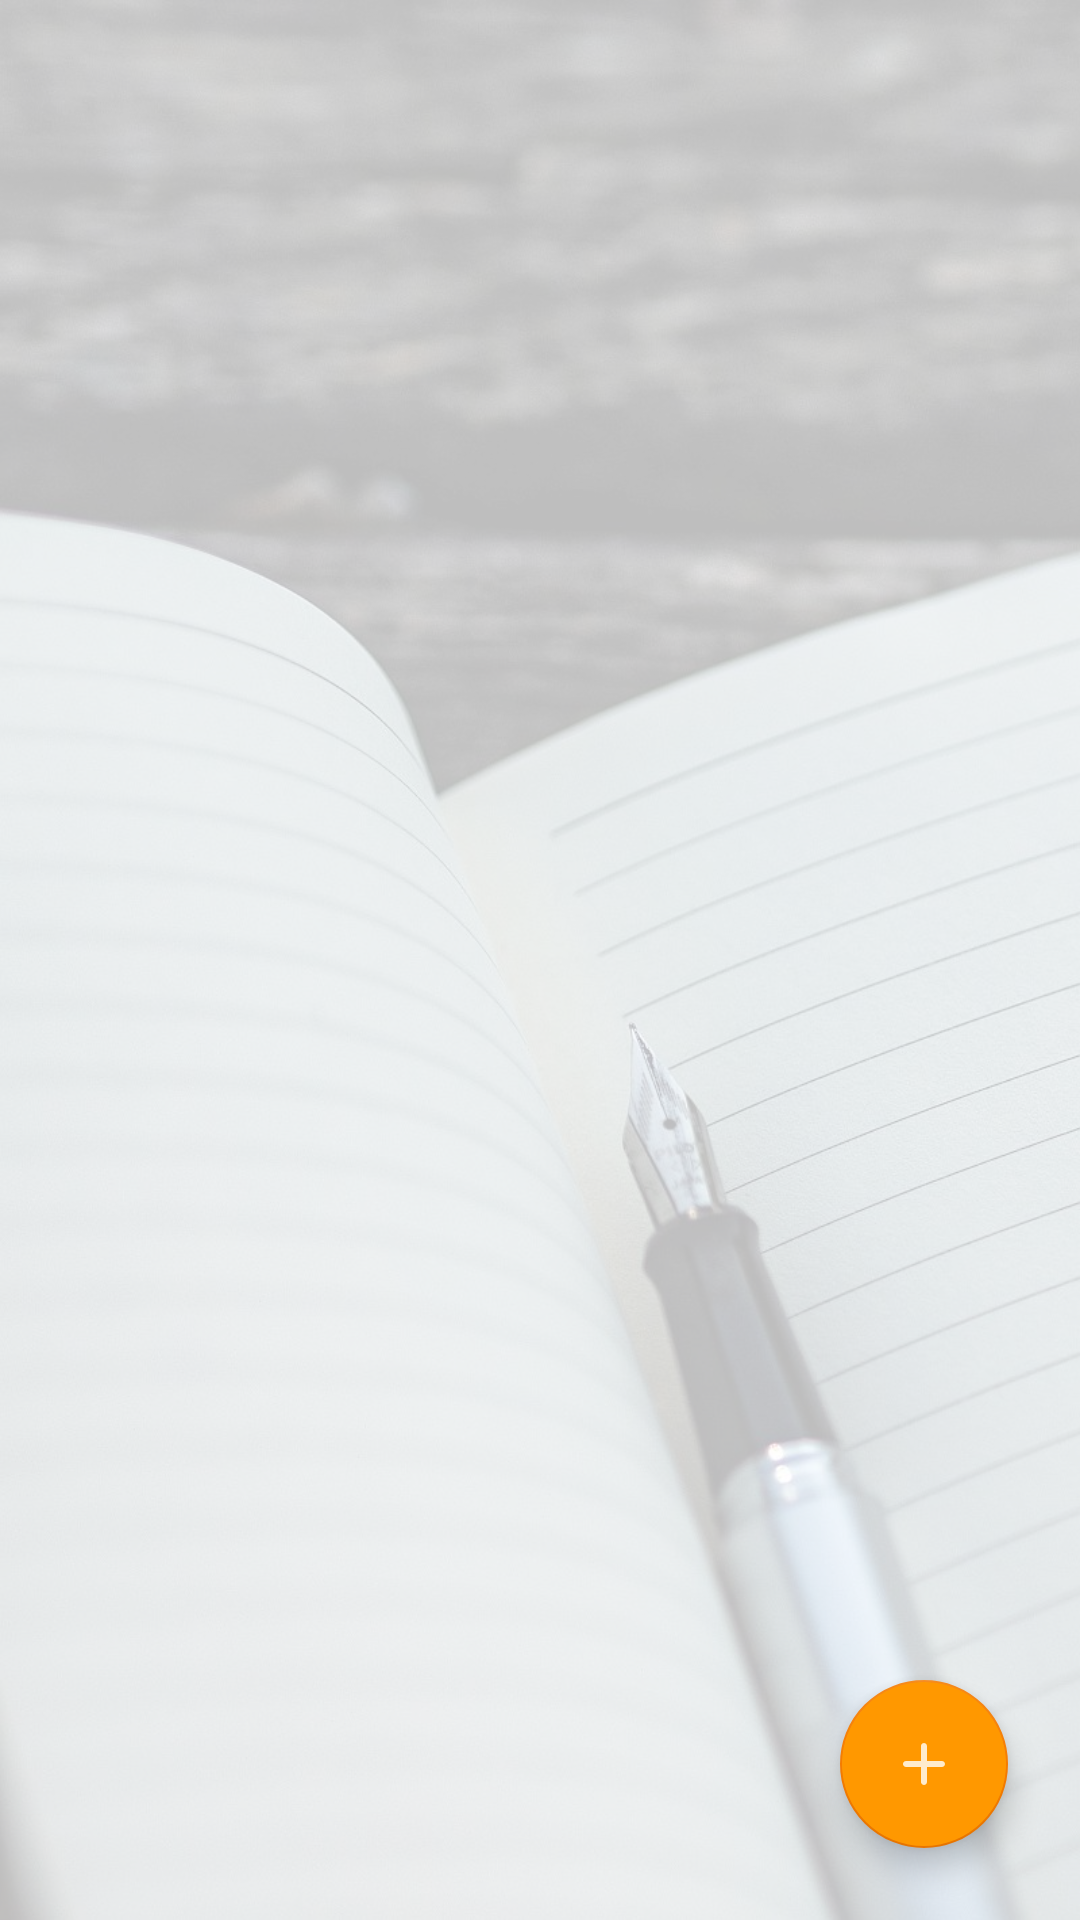

Icons on this 1080px×1920px Android screen, each with the point to tap as (x=x, y=y):
new note: (x=924, y=1764)
